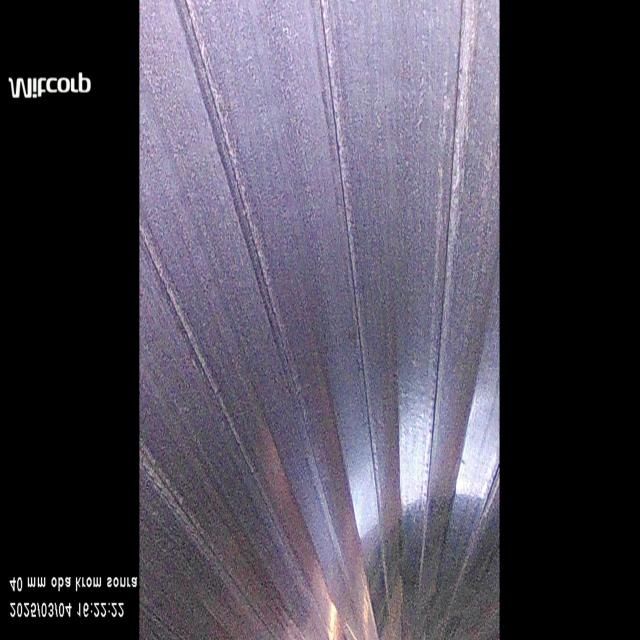hata_4.1: (337, 273, 367, 329)
